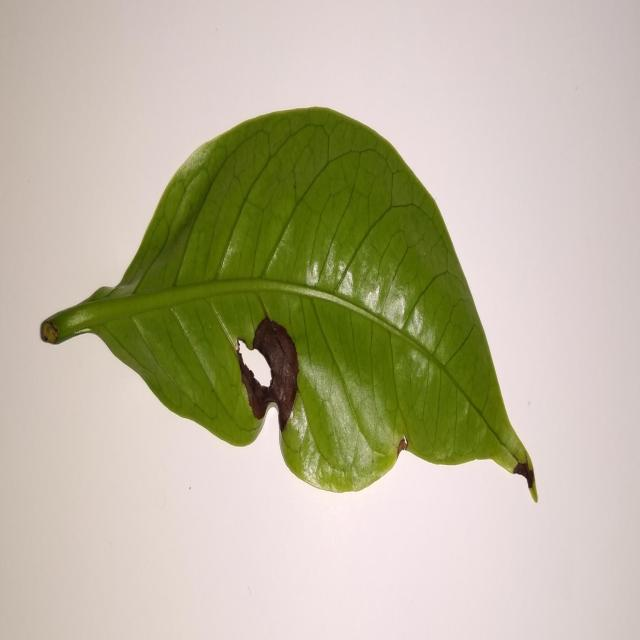phoma: (237, 317, 303, 432), (511, 452, 538, 502)
